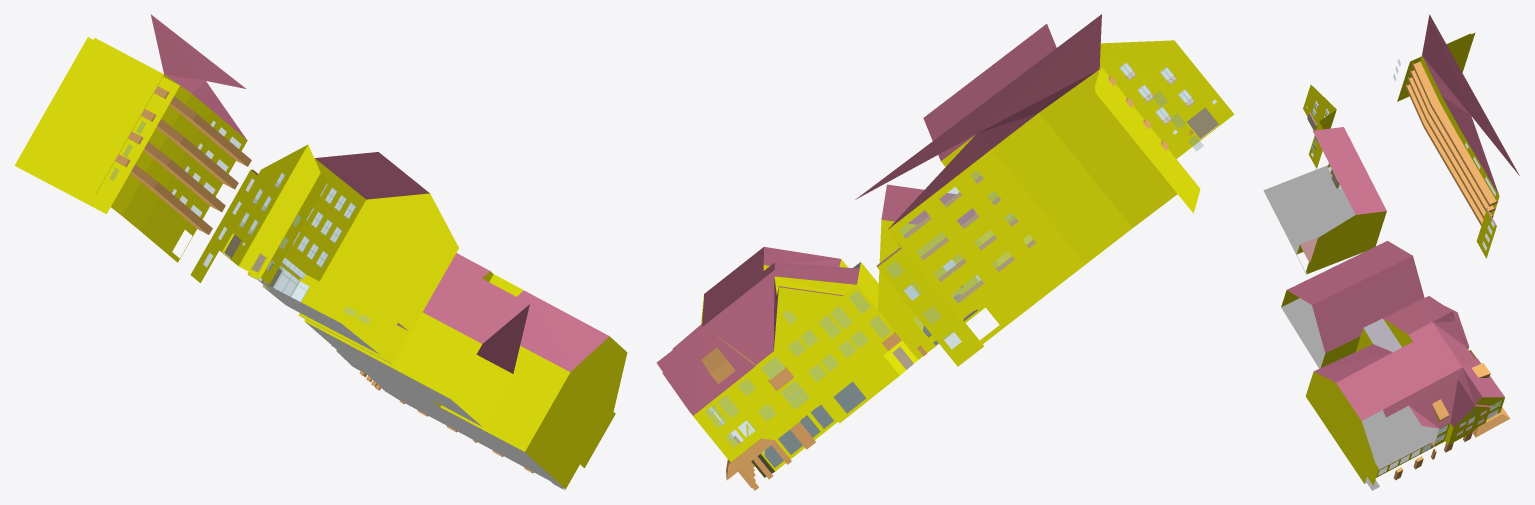
The picture shows the model from 3 angles, left to right: view 1: azimuth 30°, elevation 25°; view 2: azimuth 150°, elevation 25°; view 3: azimuth 270°, elevation 25°; orthographic projection. The views are drawn at different scales.
Visible parts, largest first — view 1: mesh; view 2: mesh; view 3: mesh.
Part boxes in pixels (x1=…): mesh: x1=14, y1=14, x2=627, y2=490; mesh: x1=656, y1=14, x2=1234, y2=490; mesh: x1=1263, y1=14, x2=1519, y2=490.
Size of the model in its own units: 64.52 by 61.4 by 40.2.
